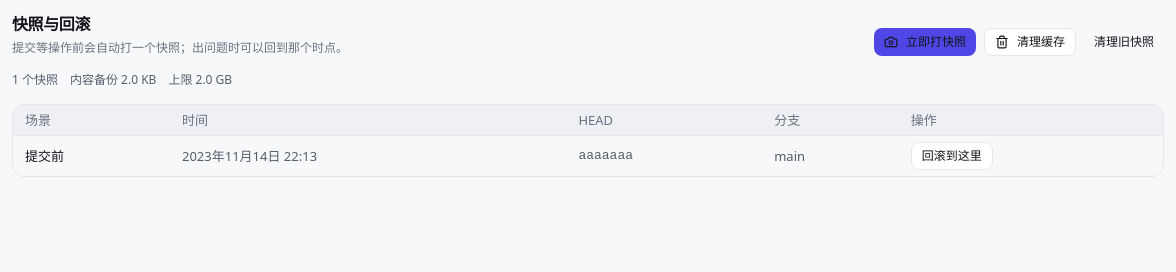
Test case: 快照页 › 手动打点后把"未包含什么"挂在页面上，而不是只弹一个 toast
The image size is (1176, 272).
Expected: the text "提交前" is shown, [13, 136, 170, 176]
Click the button with test id "snapshot-create": (925, 42) [874, 28, 976, 56]
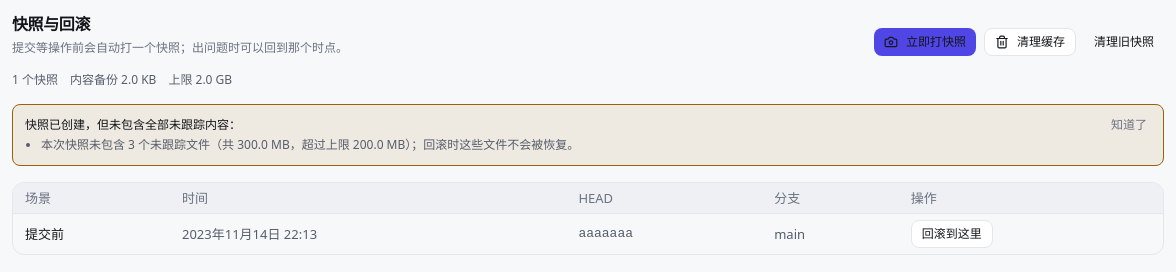
Expected: the element with test id "snapshot-warning" shows "未包含 3 个未跟踪文件", [41, 136, 579, 153]
Expected: the element with test id "snapshot-warning" shows "200.0 MB", [41, 136, 579, 153]
